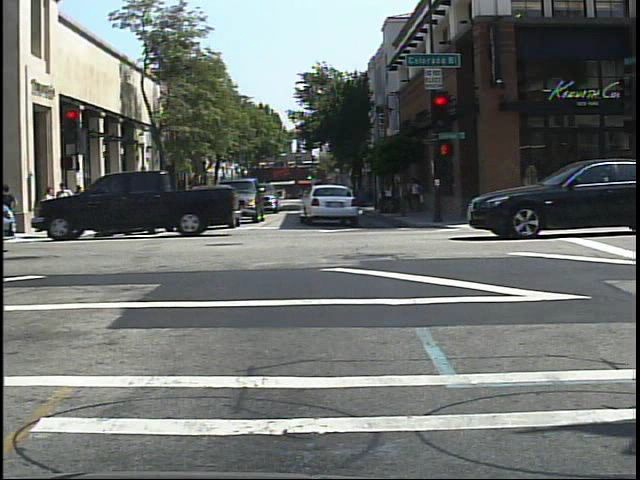person: (143, 181, 162, 219), (91, 187, 106, 228), (147, 180, 164, 216)
